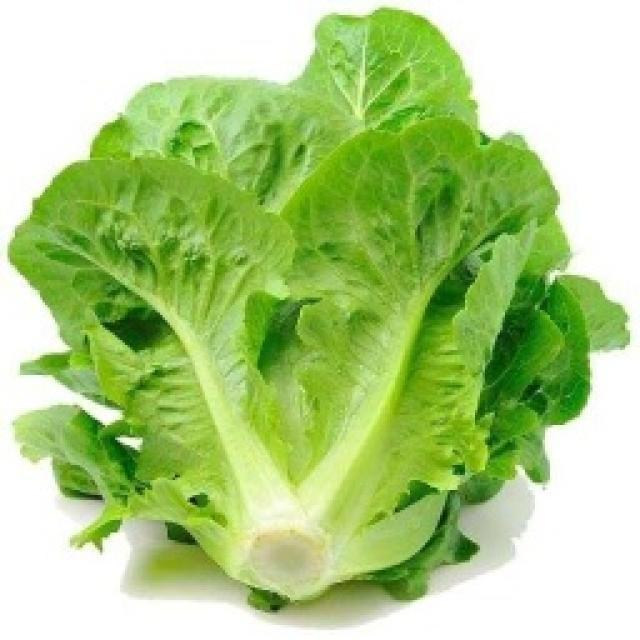Lettuce-Ready-to-Harvest: (10, 9, 629, 610)
